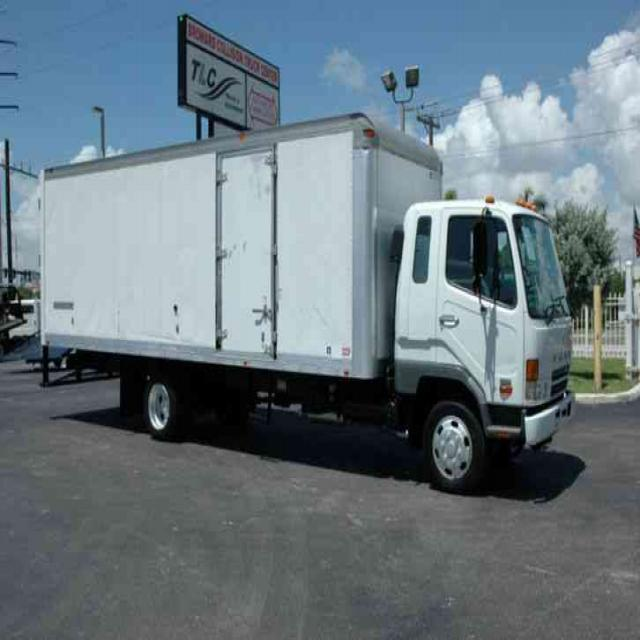truck: (38, 113, 571, 483)
